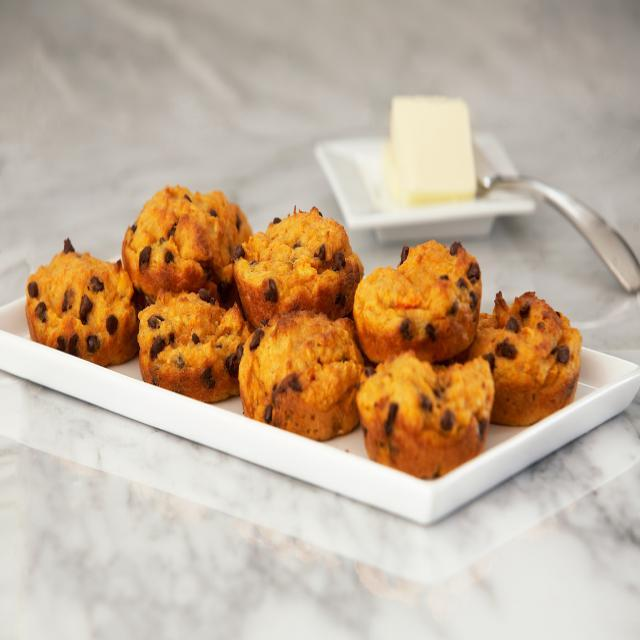Muffin: (450, 291, 588, 427), (352, 352, 493, 482), (351, 234, 483, 370), (238, 309, 370, 441), (119, 178, 251, 304), (230, 206, 362, 332), (26, 236, 148, 360), (132, 288, 251, 407)
